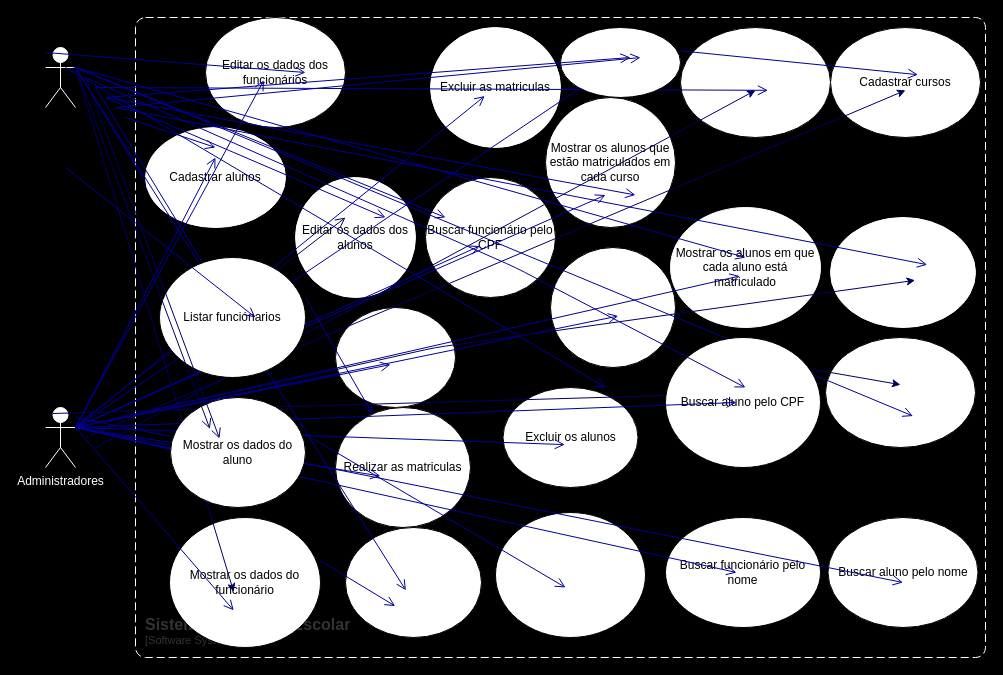
The diagram is 1003 pixels wide and 675 high, and some of its shapes have lost their labels. The box of each missing label's shape, as (x1, y1, x2, y2) in pixels:
Cadastrar funcionários: (830, 216, 976, 328)
Colaboradores: (44, 46, 76, 108)
Editar os dados dos cursos: (560, 26, 680, 98)
Excluir os cursos: (334, 306, 456, 408)
Excluir os funcionários: (494, 512, 646, 638)
Listar alunos: (824, 336, 976, 448)
Listar cursos: (680, 26, 830, 138)
Login de usuários: (550, 246, 676, 368)
Mostrar os dados do curso: (344, 526, 482, 638)
